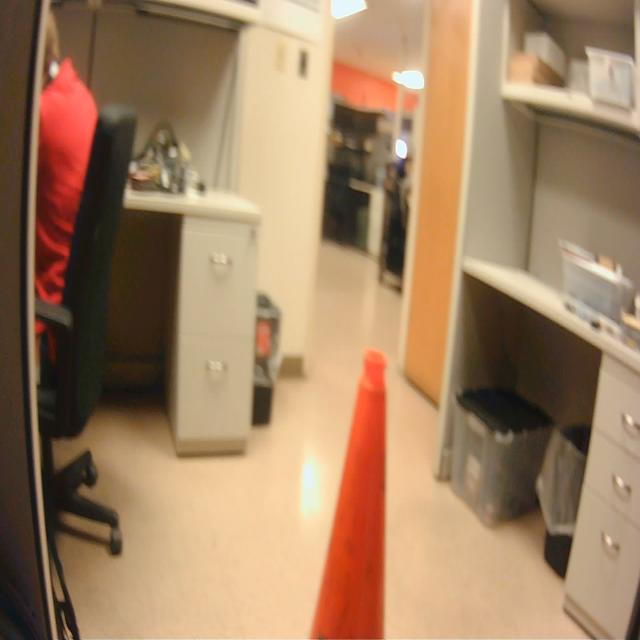traffic cone: (304, 338, 403, 640)
